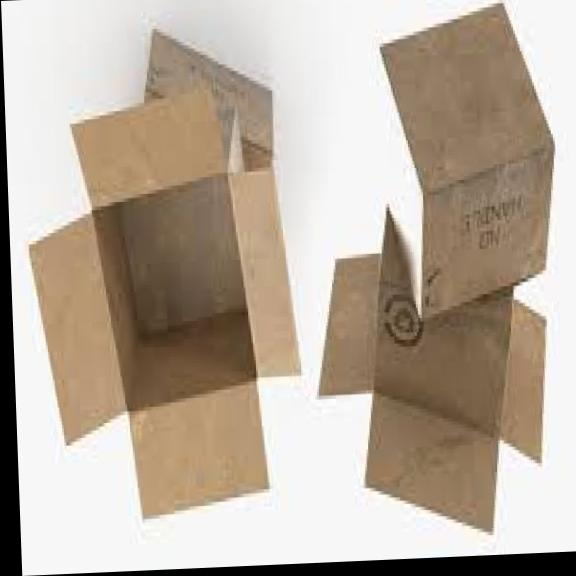Kertas: (20, 84, 308, 525), (73, 89, 253, 410), (381, 6, 552, 317), (118, 176, 254, 410), (381, 3, 548, 187), (372, 210, 510, 432), (420, 148, 552, 317), (28, 213, 124, 441), (136, 20, 275, 176), (121, 176, 243, 332), (129, 380, 266, 517), (71, 89, 225, 208), (365, 393, 498, 530), (228, 120, 298, 376), (145, 32, 273, 167), (319, 253, 378, 394), (500, 300, 545, 462)
